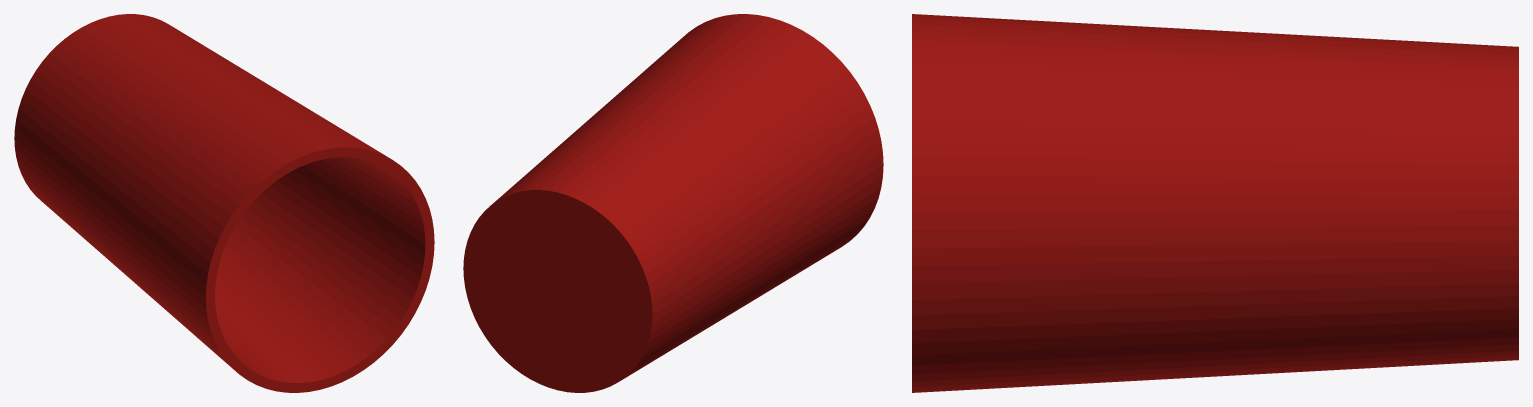
3 renders of one model, left to right at view 1: azimuth 30°, elevation 25°; view 2: azimuth 150°, elevation 25°; view 3: azimuth 270°, elevation 25°, orthographic. The views are drawn at different scales.
Parts seen in each view (by area): view 1: cup_red; view 2: cup_red; view 3: cup_red.
Boxes of the visible parts, x1,y1,x2,y2 form: cup_red: [14, 14, 434, 392]; cup_red: [463, 14, 883, 392]; cup_red: [912, 14, 1518, 392].
Size of the model in its own units: 0.075 by 0.075 by 0.12.
